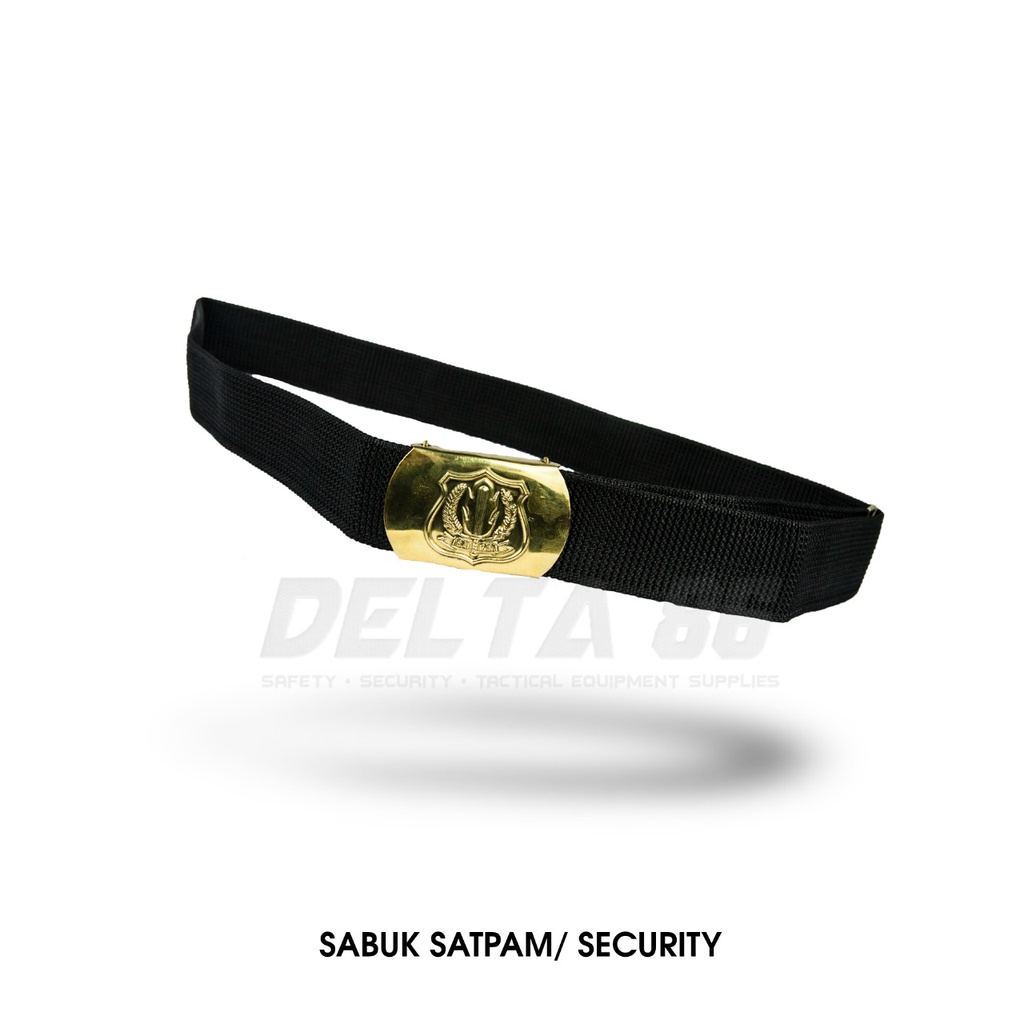sabuk_ada: (226, 249, 861, 610)
